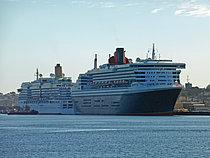Ship: (67, 42, 188, 120), (12, 62, 84, 120)
